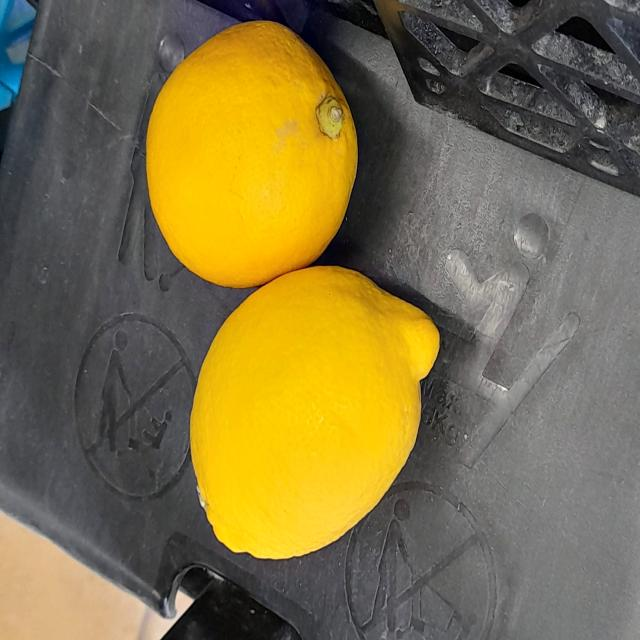lemon: (168, 252, 450, 564), (145, 6, 358, 289)
